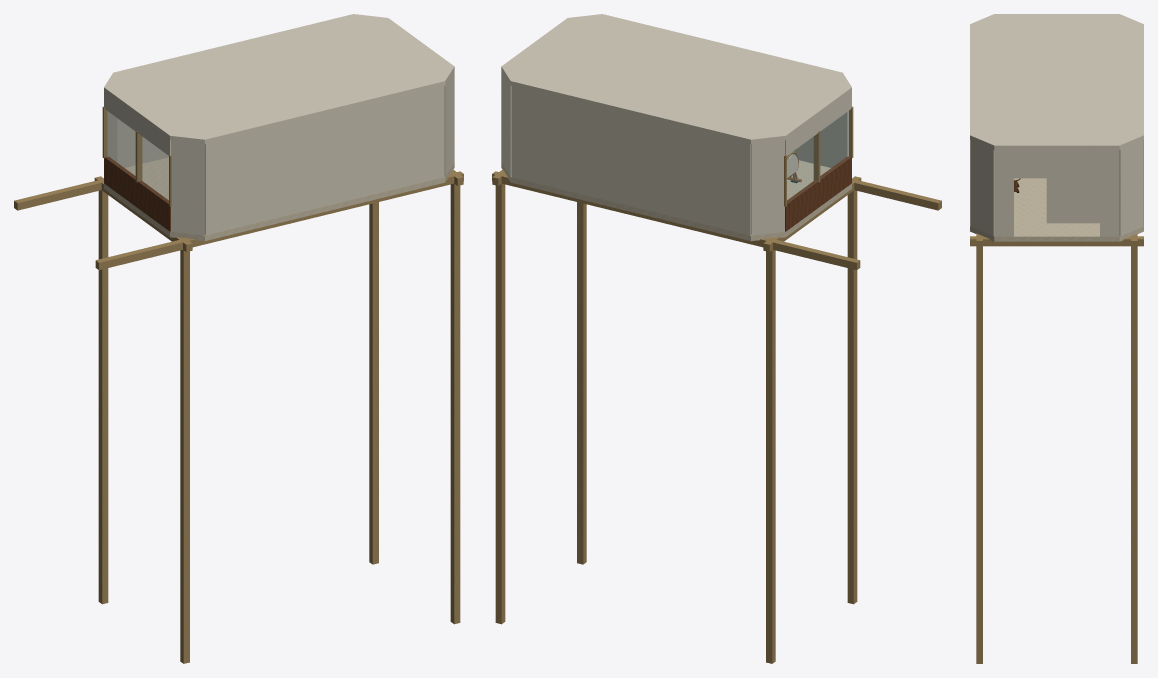
Rendered from D04_PORT_CENTRAL_HOME_905_r001.glb.
The picture shows the model from 3 angles, left to right: view 1: azimuth 30°, elevation 25°; view 2: azimuth 150°, elevation 25°; view 3: azimuth 270°, elevation 25°; orthographic projection. The views are drawn at different scales.
Visible parts, largest first — view 1: PC905_D04H904_Roof, PC905_D04H904_Shell_3, PC905_D04H904_Pier_12, PC905_D04H904_Pier_9, PC905_D04H904_Pier_10, PC905_D04H904_Pier_11, PC905_D04H904_Shell_2, PC905_D04H904_Floor, PC905_D04H904_GardenGlass, PC905_D04H904_FloorCross_1, PC905_D04H904_GardenDado, PC905_D04H904_Shell_7 (+3 smaller); view 2: PC905_D04H904_Roof, PC905_D04H904_Shell_7, PC905_D04H904_Pier_11, PC905_D04H904_Pier_10, PC905_D04H904_Pier_9, PC905_D04H904_Pier_12, PC905_D04H904_Shell_0, PC905_D04H904_Floor, PC905_D04H904_GardenGlass, PC905_D04H904_FloorCross_0, PC905_D04H904_GardenDado, PC905_D04H904_GardenHead (+3 smaller); view 3: PC905_D04H904_Roof, PC905_D04H904_Floor, PC905_D04H904_Pier_11, PC905_D04H904_Pier_12, PC905_D04H904_EntryHeader, PC905_D04H904_BathDogleg, PC905_D04H904_Shell_4, PC905_D04H904_Shell_6, PC905_D04H904_EntryWall_0, PC905_D04H904_EntryWall_1, PC905_D04H904_Long_-46.349999999999994.
Boxes of the visible parts, x1,y1,x2,y2 form: PC905_D04H904_Roof: (104, 14, 454, 144); PC905_D04H904_Shell_3: (204, 86, 444, 235); PC905_D04H904_Pier_12: (450, 173, 460, 624); PC905_D04H904_Pier_9: (98, 179, 108, 604); PC905_D04H904_Pier_10: (180, 238, 189, 663); PC905_D04H904_Pier_11: (369, 202, 378, 564); PC905_D04H904_Shell_2: (171, 140, 204, 235); PC905_D04H904_Floor: (104, 157, 454, 241); PC905_D04H904_GardenGlass: (106, 113, 168, 202); PC905_D04H904_FloorCross_1: (95, 171, 463, 270); PC905_D04H904_GardenDado: (104, 156, 170, 231); PC905_D04H904_Shell_7: (117, 118, 168, 167); PC905_D04H904_Roof: (501, 14, 851, 144); PC905_D04H904_Shell_7: (511, 86, 751, 235); PC905_D04H904_Pier_11: (495, 172, 505, 624); PC905_D04H904_Pier_10: (847, 179, 857, 604); PC905_D04H904_Pier_9: (766, 238, 775, 663); PC905_D04H904_Pier_12: (577, 202, 586, 564); PC905_D04H904_Shell_0: (751, 140, 784, 235); PC905_D04H904_Floor: (501, 160, 851, 241); PC905_D04H904_GardenGlass: (787, 113, 848, 202); PC905_D04H904_FloorCross_0: (492, 171, 860, 270); PC905_D04H904_GardenDado: (785, 156, 851, 231); PC905_D04H904_GardenHead: (785, 92, 851, 155); PC905_D04H904_Roof: (970, 14, 1143, 149); PC905_D04H904_Floor: (970, 178, 1143, 241); PC905_D04H904_Pier_11: (1131, 236, 1137, 663); PC905_D04H904_Pier_12: (976, 236, 982, 663); PC905_D04H904_EntryHeader: (1014, 150, 1099, 178); PC905_D04H904_BathDogleg: (1047, 178, 1099, 223); PC905_D04H904_Shell_4: (970, 140, 994, 236); PC905_D04H904_Shell_6: (1119, 140, 1143, 236); PC905_D04H904_EntryWall_0: (1100, 150, 1119, 236); PC905_D04H904_EntryWall_1: (994, 150, 1013, 236); PC905_D04H904_Long_-46.349999999999994: (970, 236, 1143, 246).
Bounding box in the file's own units: 16.55 × 23.78 × 7.2.
36 materials, 21 textured.
